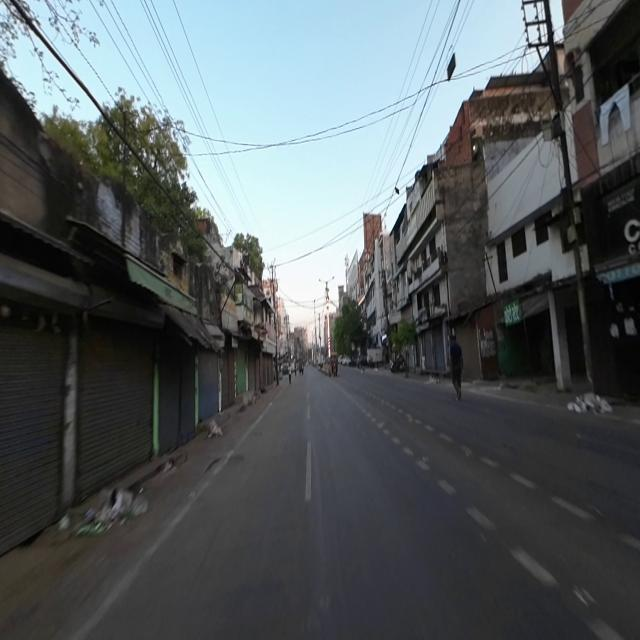Garbage: (79, 484, 149, 539), (567, 385, 611, 418)
